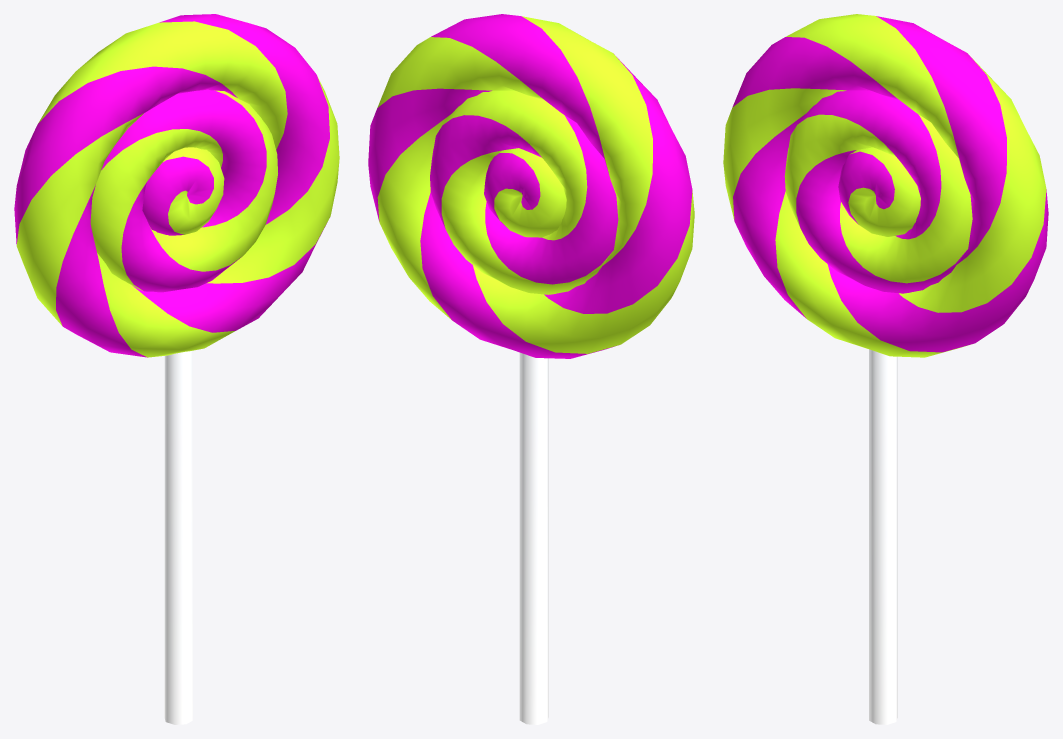
File: Lollipop_02.glb
3 renders of one model, left to right at view 1: azimuth 30°, elevation 25°; view 2: azimuth 150°, elevation 25°; view 3: azimuth 330°, elevation 25°, orthographic.
Parts seen in each view (by area): view 1: Lollipop_02; view 2: Lollipop_02; view 3: Lollipop_02.
Boxes of the visible parts, <box> form: Lollipop_02: <box>14,14,339,724</box>; Lollipop_02: <box>368,14,694,724</box>; Lollipop_02: <box>723,14,1048,724</box>.
Bounding box in the file's own units: 6.42 × 13.54 × 1.47.
Materials: 1 (1 with a texture image).
